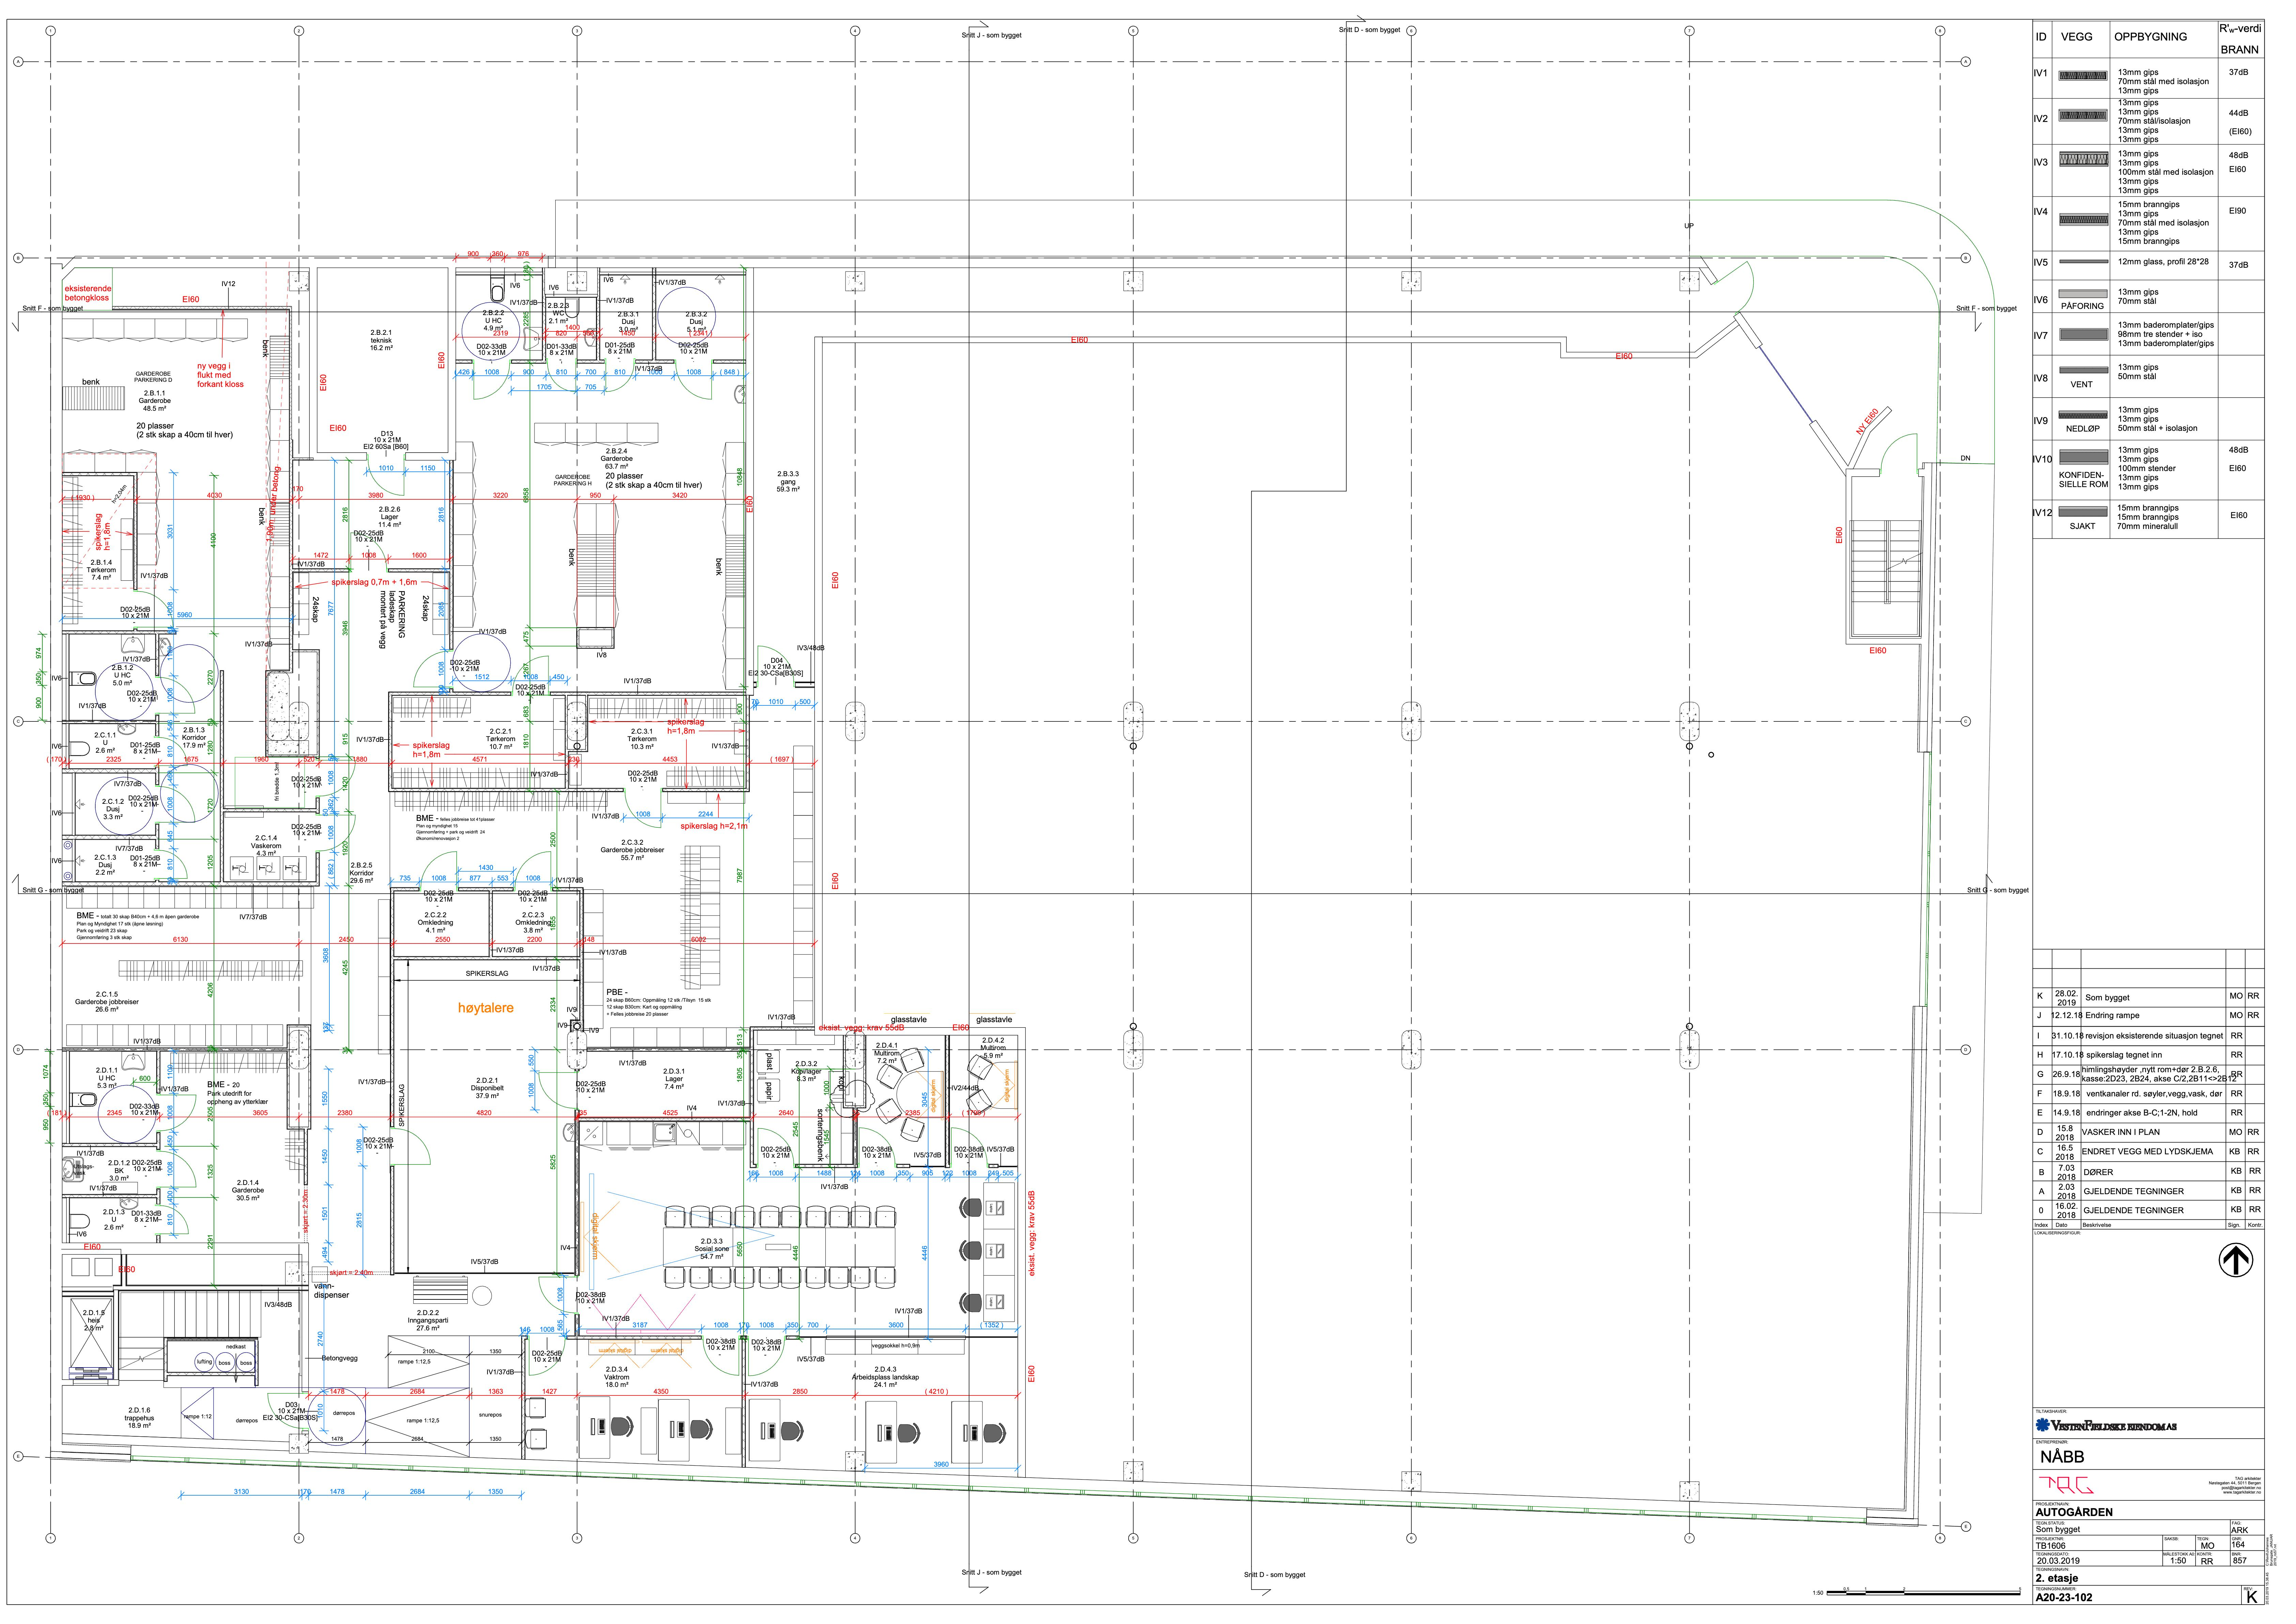room: (452, 360, 745, 694), (577, 1118, 1018, 1336), (392, 958, 580, 1272), (744, 1336, 1021, 1478), (522, 1338, 744, 1466), (313, 265, 452, 455), (292, 459, 452, 571), (390, 692, 566, 791), (566, 694, 747, 789), (751, 1030, 856, 1167), (854, 1035, 948, 1167), (577, 1049, 751, 1118), (62, 473, 135, 633), (948, 1035, 1018, 1167), (67, 1049, 158, 1144), (62, 633, 158, 721), (654, 269, 744, 362), (455, 272, 543, 362), (222, 810, 318, 884), (392, 889, 490, 958), (490, 889, 582, 958), (63, 772, 156, 837), (599, 271, 654, 362), (63, 1144, 158, 1195), (62, 722, 158, 772), (62, 838, 158, 884), (63, 1197, 158, 1243), (543, 295, 598, 360)
